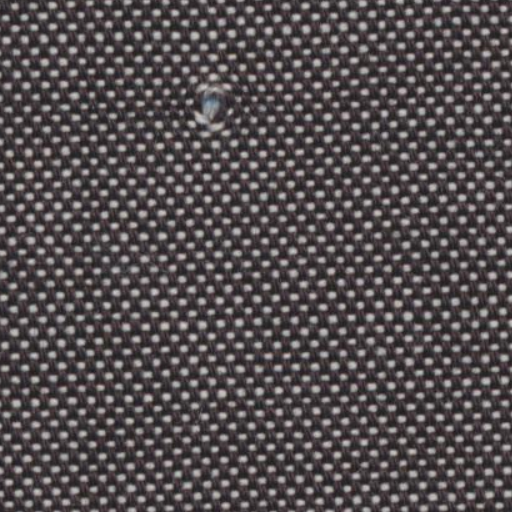PoDong: (168, 67, 256, 142)
